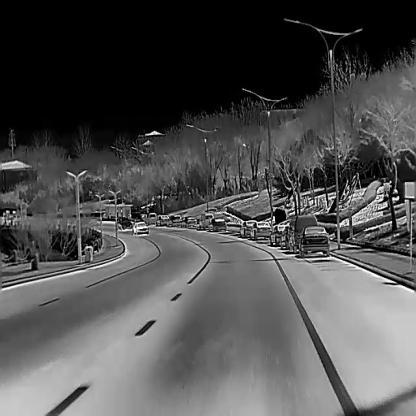car: (289, 215, 318, 251), (298, 225, 329, 256), (250, 222, 271, 238), (239, 221, 257, 237), (270, 225, 284, 245), (208, 217, 227, 230), (280, 225, 289, 249), (133, 221, 148, 235), (199, 213, 213, 228), (116, 216, 132, 228), (180, 215, 196, 227), (167, 214, 180, 225), (156, 215, 169, 225), (148, 211, 156, 223)
